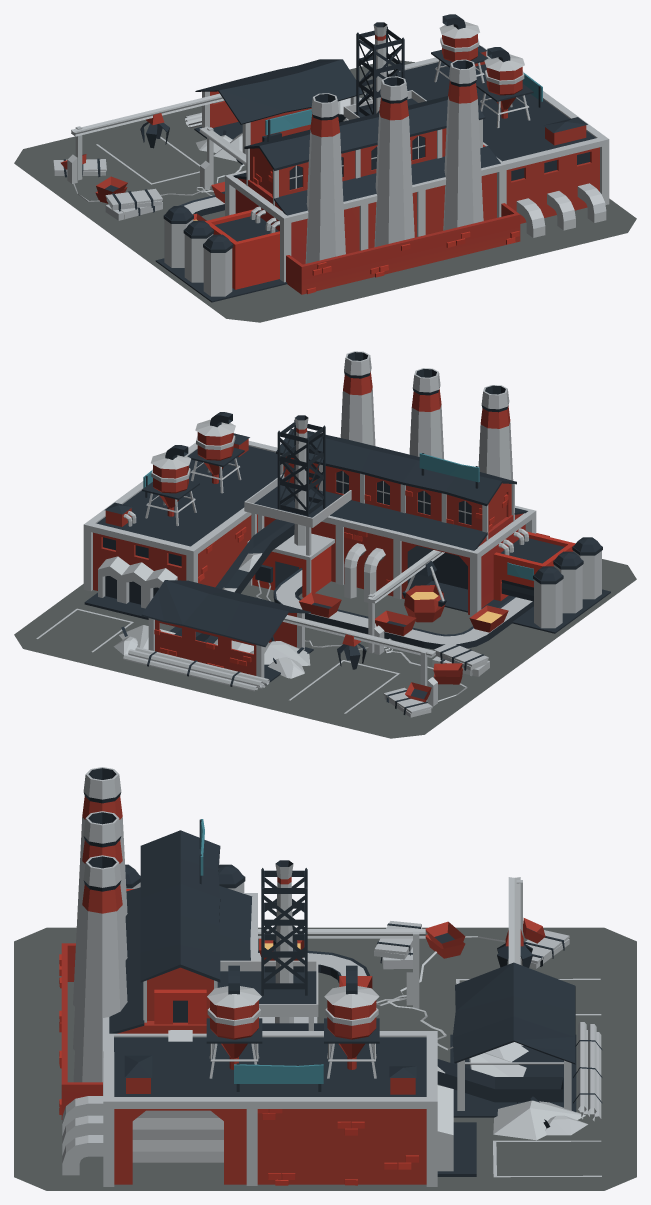
Rendered from factory_lowpoly_free.glb.
The picture shows the model from 3 angles, top to bottom: view 1: azimuth 30°, elevation 25°; view 2: azimuth 150°, elevation 25°; view 3: azimuth 270°, elevation 25°; orthographic projection. The views are drawn at different scales.
Visible parts, largest first — view 1: factory; view 2: factory; view 3: factory.
Part boxes in pixels (x1,y1,x2,y2): factory: (14,14,636,322); factory: (14,351,636,738); factory: (14,767,636,1190).
Bounding box in the file's own units: 11.25 × 4.79 × 11.25.
Materials: 1 (1 with a texture image).
